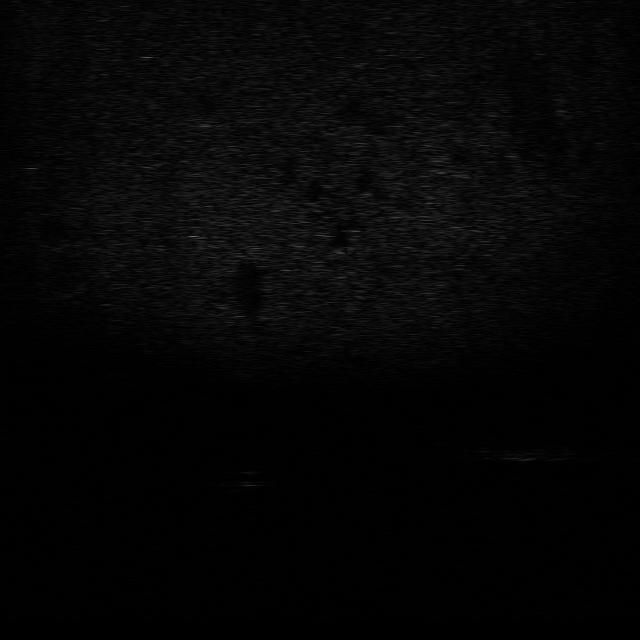ball: (224, 468, 270, 491)
human body: (468, 438, 578, 463)
